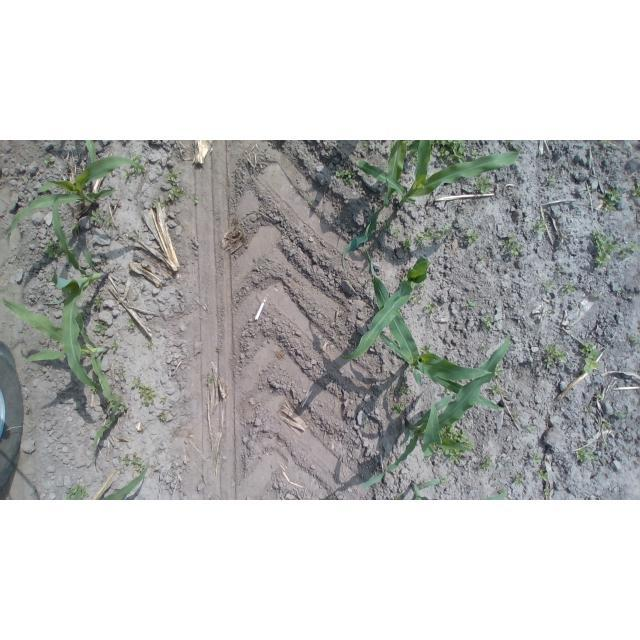Maize: (351, 329, 516, 493), (342, 141, 524, 271), (369, 272, 508, 417), (44, 185, 120, 393), (8, 142, 147, 247), (339, 251, 433, 363), (0, 292, 120, 365), (85, 347, 136, 475), (66, 465, 153, 500), (401, 478, 516, 500)
Weeds: (435, 422, 473, 465), (425, 140, 480, 164), (589, 230, 618, 269), (131, 376, 157, 406), (578, 342, 600, 377), (541, 343, 568, 370), (125, 152, 148, 180), (414, 229, 455, 244), (167, 169, 186, 200), (601, 187, 623, 212), (123, 454, 148, 475), (574, 446, 600, 466), (90, 209, 115, 229), (334, 166, 357, 187), (472, 175, 494, 196), (503, 234, 523, 256), (64, 484, 89, 501), (44, 241, 64, 261), (150, 195, 173, 210), (619, 244, 639, 260), (479, 456, 495, 473), (529, 450, 546, 466), (529, 221, 547, 236), (485, 382, 505, 395), (93, 320, 109, 336), (396, 383, 412, 399), (479, 315, 497, 329), (420, 301, 436, 316), (70, 219, 84, 235), (462, 231, 479, 244), (543, 279, 556, 296), (399, 237, 413, 252), (390, 401, 404, 416), (625, 332, 640, 346), (536, 470, 552, 483), (44, 154, 59, 167), (512, 476, 527, 489), (92, 297, 105, 311), (613, 411, 631, 421), (564, 284, 577, 296), (420, 343, 433, 355), (526, 422, 539, 434), (494, 366, 505, 379), (127, 319, 137, 333), (393, 229, 404, 240), (632, 182, 640, 197), (543, 173, 555, 183), (204, 374, 214, 386), (159, 394, 169, 406), (584, 407, 596, 417), (511, 411, 521, 422), (110, 340, 118, 353), (192, 195, 201, 206), (158, 411, 167, 422), (600, 140, 612, 148), (464, 299, 476, 307), (555, 268, 565, 277), (382, 220, 393, 228), (601, 422, 610, 431), (617, 289, 626, 298), (146, 339, 154, 349), (594, 391, 602, 401)
